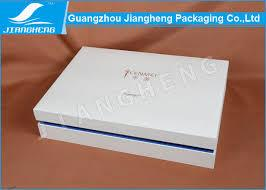Cardboard: (31, 45, 248, 184)
